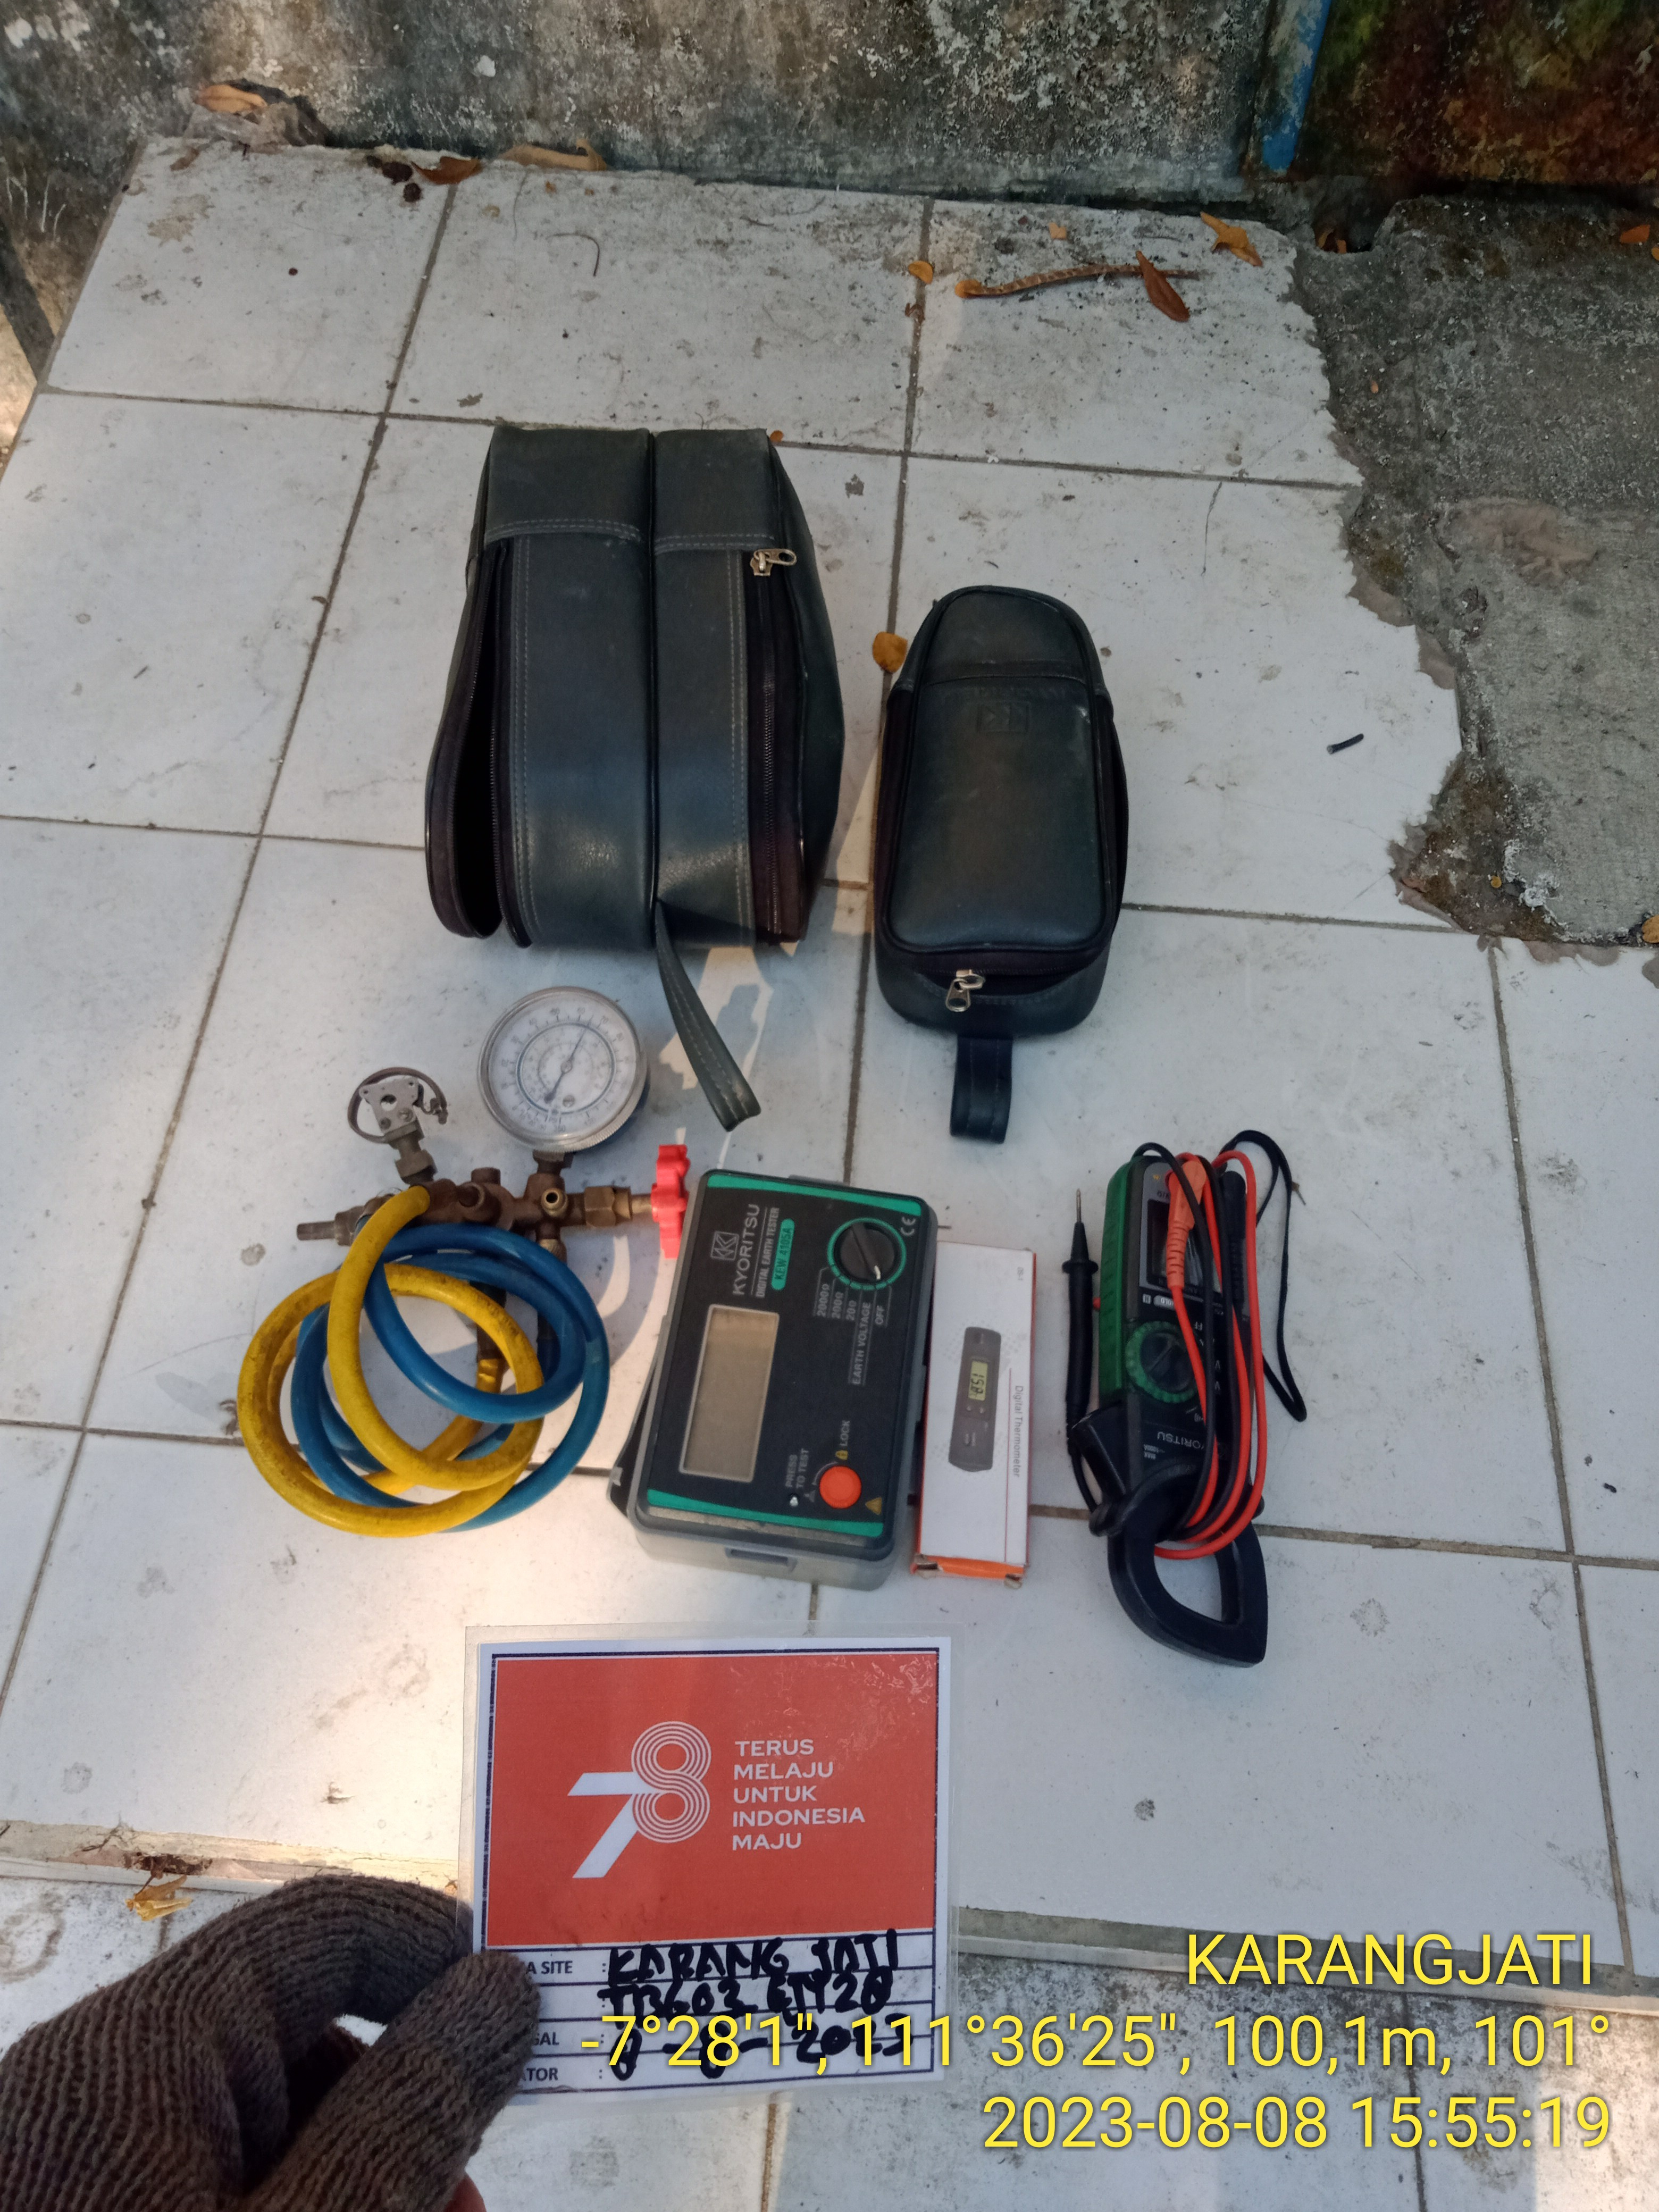EARTH_GROUNDING_TESTER: (638, 1170, 932, 1571)
TANG_AMPERE: (1068, 1144, 1276, 1665)
